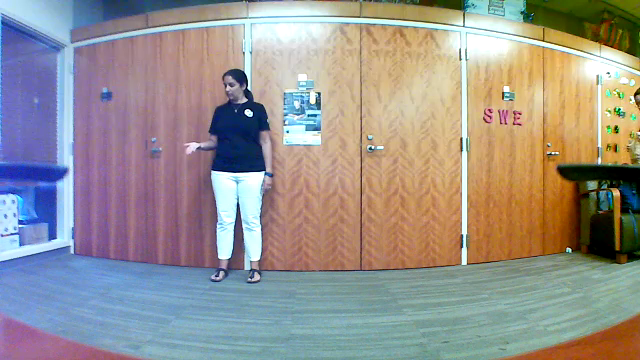land: (180, 137, 205, 157)
